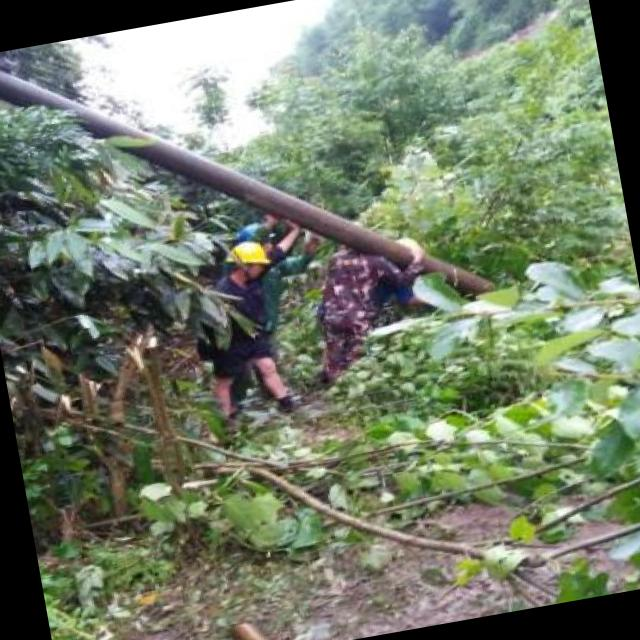helmet: (215, 235, 272, 288)
